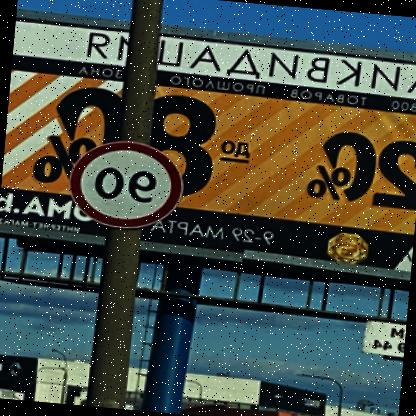speedlimit: (68, 136, 189, 232)
